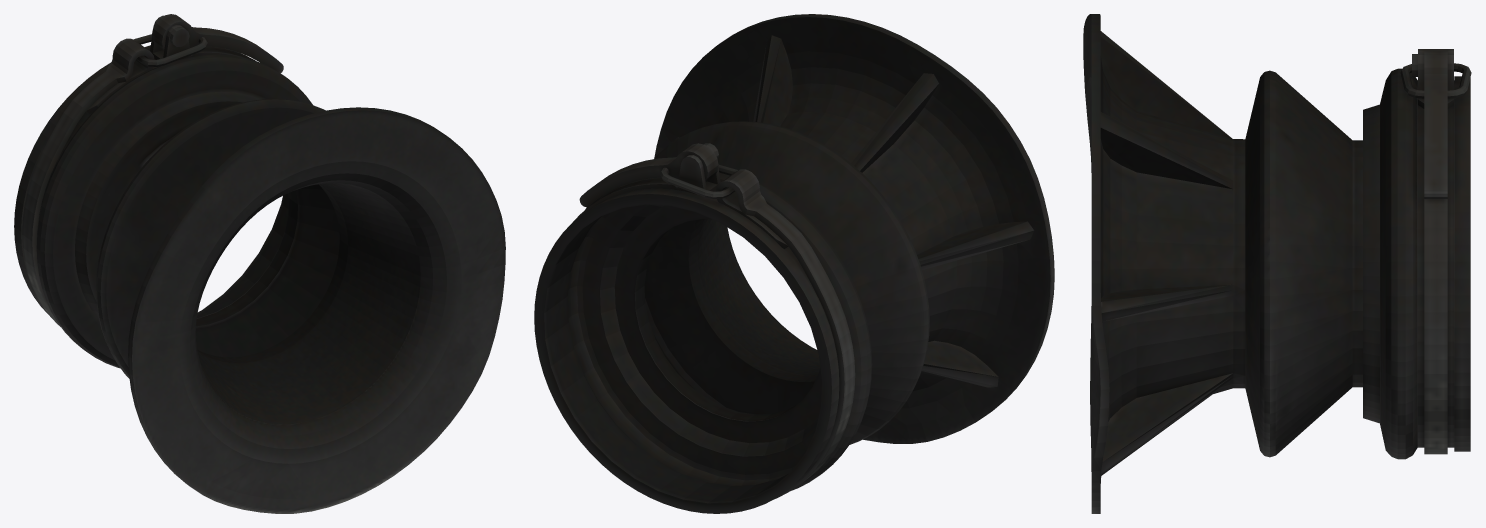
3 views of the same model, side by side, from view 1: azimuth 30°, elevation 25°; view 2: azimuth 150°, elevation 25°; view 3: azimuth 270°, elevation 25° (orthographic). The views are drawn at different scales.
Parts seen in each view (by area): view 1: TW_618a760e526131765025aae3_PZ_Import; view 2: TW_618a760e526131765025aae3_PZ_Import; view 3: TW_618a760e526131765025aae3_PZ_Import.
Part boxes in pixels (x1,y1,x2,y2): TW_618a760e526131765025aae3_PZ_Import: (14, 14, 505, 513); TW_618a760e526131765025aae3_PZ_Import: (534, 14, 1054, 513); TW_618a760e526131765025aae3_PZ_Import: (1083, 14, 1471, 513).
Size of the model in its own units: 0.0328 by 0.0254 by 0.0327.
1 material, 1 textured.
